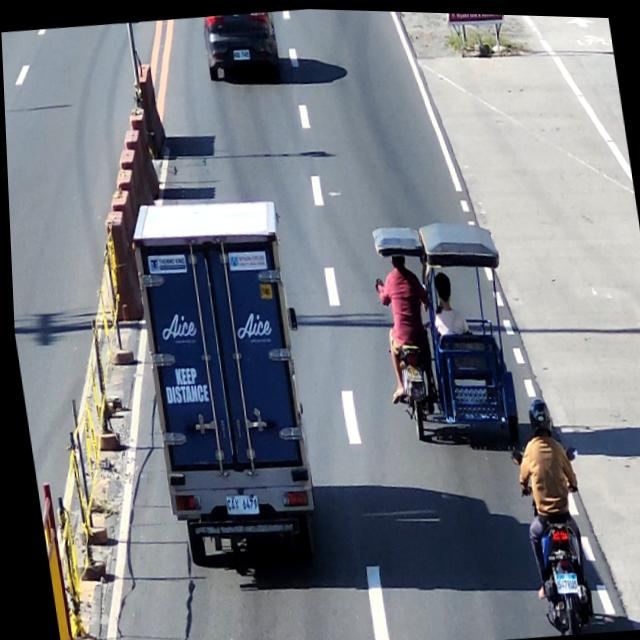Car: (199, 8, 284, 86)
License-Plate: (219, 489, 258, 519), (544, 566, 577, 596), (399, 359, 422, 380), (230, 44, 253, 64)
Motorcycle: (506, 422, 599, 635)
Tricycle: (364, 210, 523, 453)
Truck: (124, 189, 322, 582)
